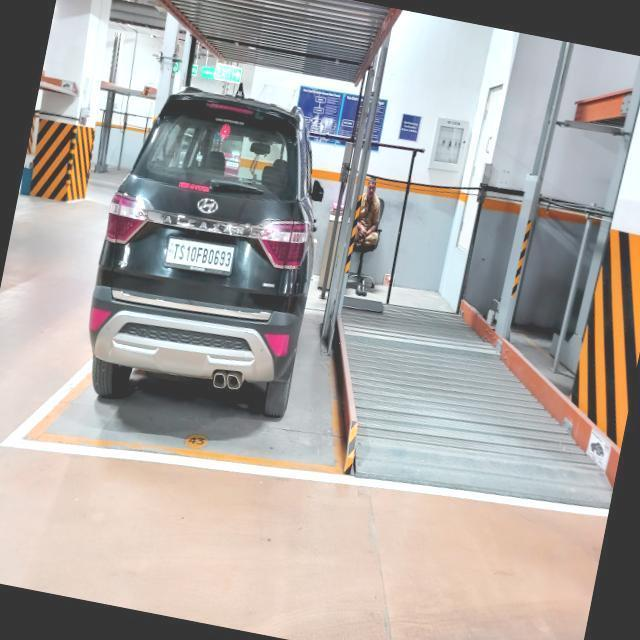space-empty: (317, 228, 632, 523)
space-occupied: (52, 91, 367, 494)
